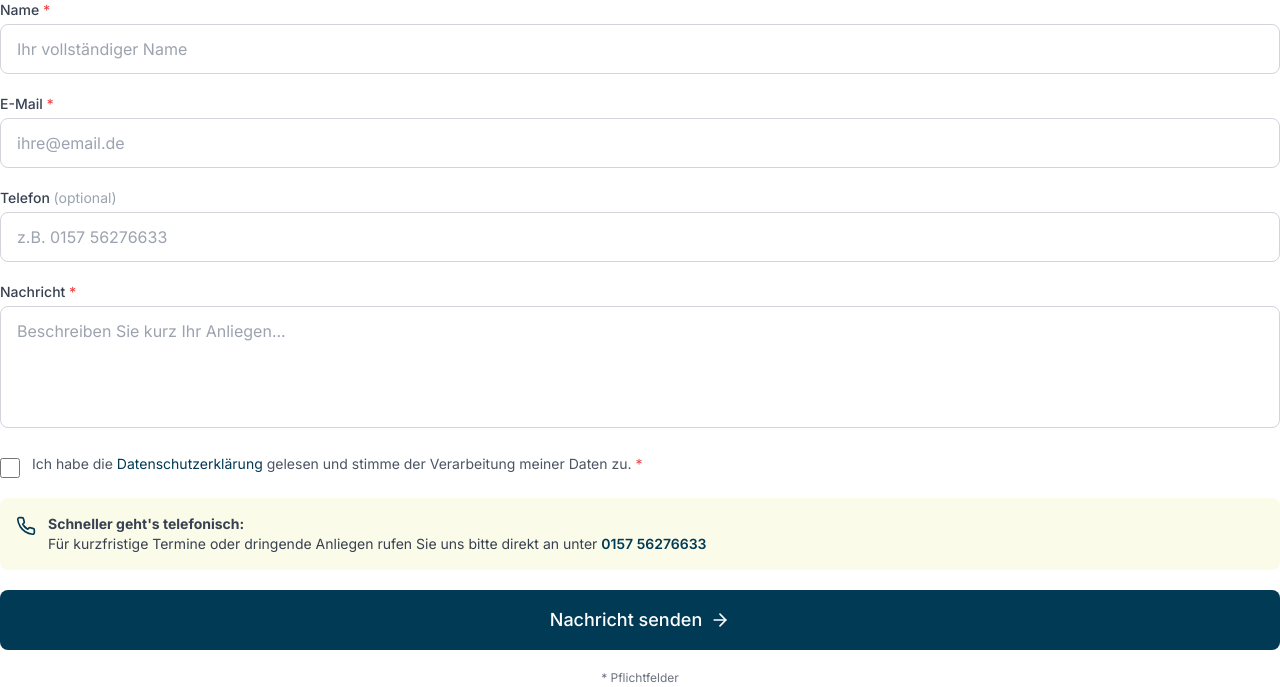
Test case: ContactForm › shows validation errors for empty required fields
Click the button "Nachricht senden": (640, 620) [0,590,1279,650]
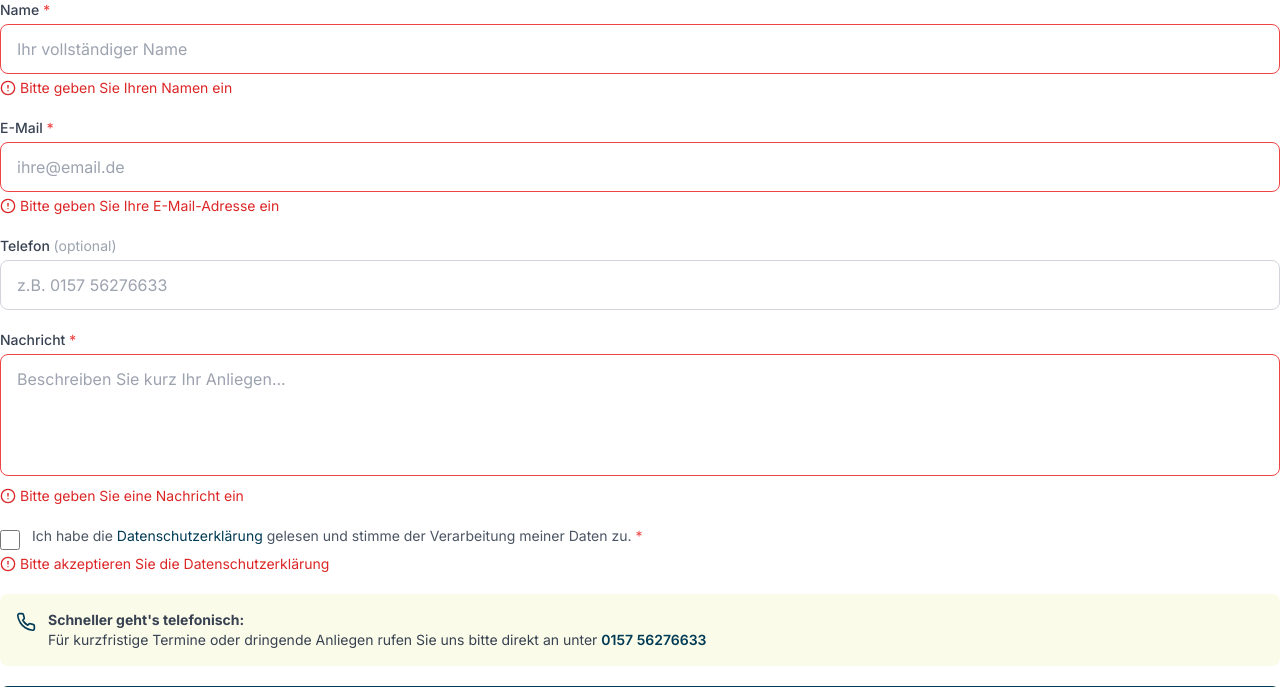
Expected: the text "Bitte geben Sie Ihren Namen ein" is shown, [0,79,232,96]
